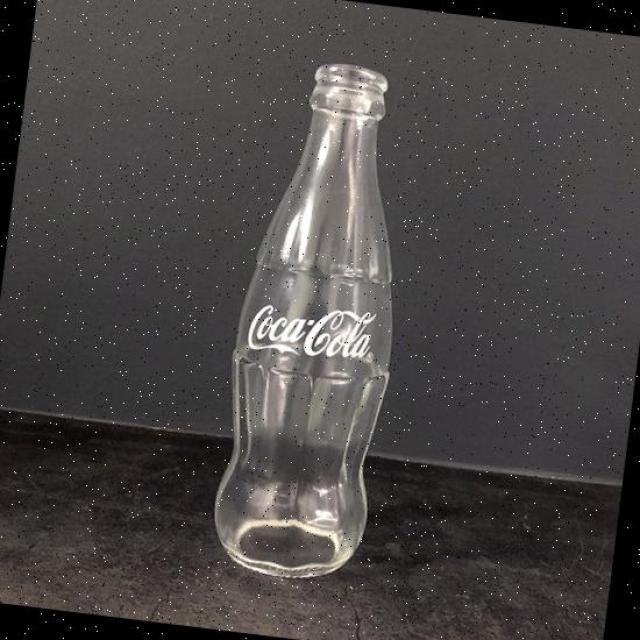coca-cola: (201, 42, 432, 590)
